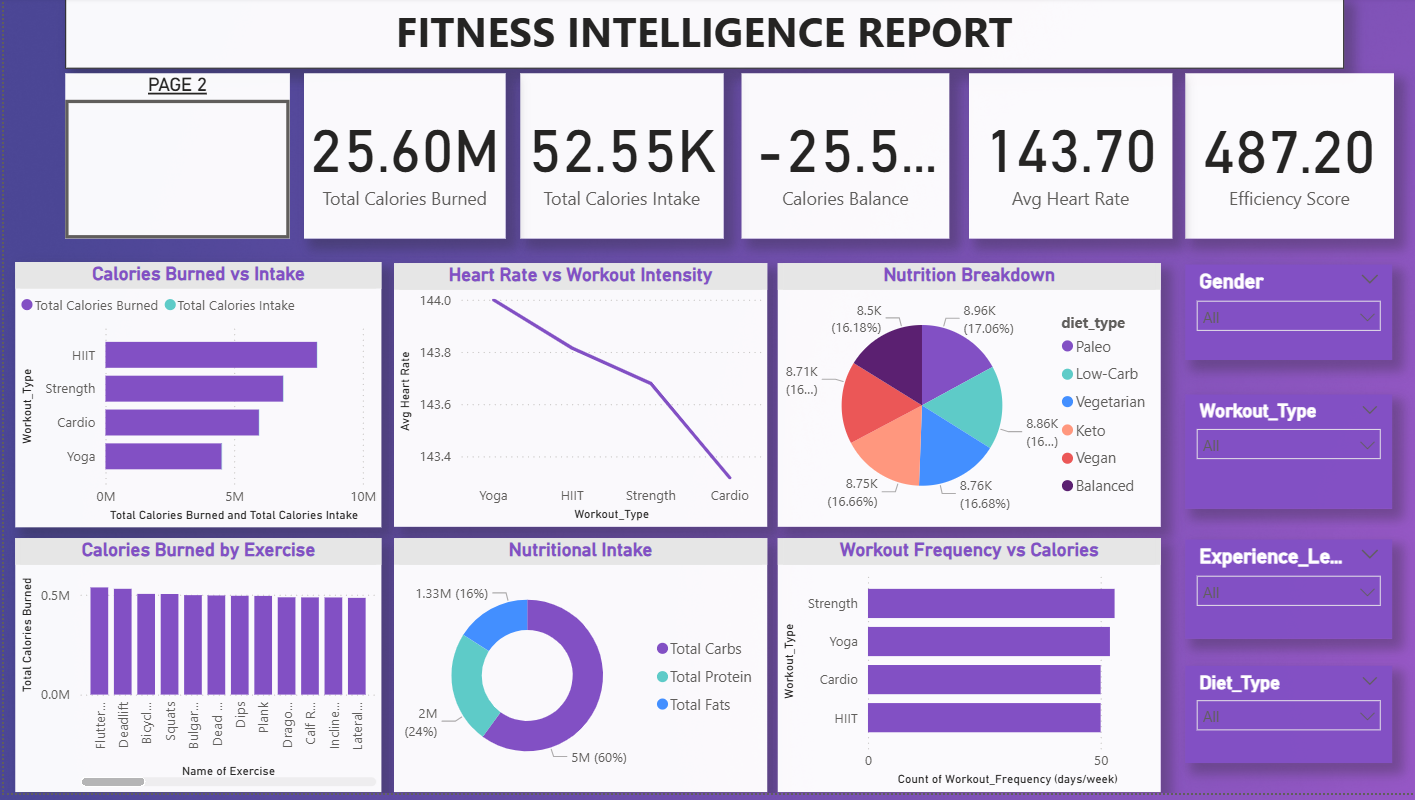

This screenshot's page, from the dashboard's own definition file:
{"tool":"powerbi","page":{"name":"Fitness Intelligence","canvas":[1280,720],"ordinal":0},"visuals":[{"type":"textbox","box":[55.3,0,1156.5,64.7],"z":0},{"type":"card","fields":{"Values":["Final_data.Calories Balance"]},"box":[667,69,188.3,149.5],"z":1000},{"type":"card","fields":{"Values":["Final_data.Efficiency Score"]},"box":[1068.5,69.4,188.8,149.6],"z":2000},{"type":"card","fields":{"Values":["Final_data.Avg Heart Rate"]},"box":[872.6,69,184,149.5],"z":4000},{"type":"card","fields":{"Values":["Final_data.Total Calories Intake"]},"box":[467.2,69,184,149.5],"z":5000},{"type":"card","fields":{"Values":["Final_data.Total Calories Burned"]},"box":[271.7,69,182.6,149.5],"z":6000},{"type":"barChart","title":"Calories Burned vs Intake","fields":{"Category":["Final_data.Workout_Type"],"Y":["Final_data.Total Calories Burned","Final_data.Total Calories Intake"]},"box":[10.4,239.8,331.5,239.8],"z":7000},{"type":"columnChart","title":"Calories Burned by Exercise","fields":{"Category":["Final_data.Name of Exercise"],"Y":["Final_data.Total Calories Burned"]},"box":[10.4,489.9,331.5,229.4],"z":8000},{"type":"lineChart","title":"Heart Rate vs Workout Intensity","fields":{"Category":["Final_data.Workout_Type"],"Y":["Final_data.Avg Heart Rate"]},"box":[352.3,241.3,337.5,238.3],"z":9000},{"type":"donutChart","title":"Nutritional Intake","fields":{"Y":["Final_data.Total Carbs","Final_data.Total Protein","Final_data.Total Fats"]},"box":[352.3,489.9,337.5,229.4],"z":10000},{"type":"pieChart","title":"Nutrition Breakdown","fields":{"Category":["Final_data.diet_type"],"Y":["Final_data.Total Calories Intake"]},"box":[700.1,241.3,346.3,238.3],"z":11000},{"type":"barChart","title":"Workout Frequency vs Calories","fields":{"Y":["Count(Final_data.Workout_Frequency (days/week))"],"Category":["Final_data.Workout_Type"]},"box":[700.1,489.9,346.3,229.4],"z":12000},{"type":"slicer","fields":{"Values":["Final_data.Gender"]},"box":[1068.5,241.4,187.1,86.1],"z":13000},{"type":"slicer","title":"Workout_Type","fields":{"Values":["Final_data.Workout_Type"]},"box":[1068.5,359.3,187.1,102.9],"z":14000},{"type":"slicer","fields":{"Values":["Final_data.Experience_Level"]},"box":[1068.5,490.3,187.1,89.8],"z":15000},{"type":"slicer","title":"Diet_type","fields":{"Values":["Final_data.diet_type"]},"box":[1068.5,604.4,187.1,88],"z":16000},{"type":"actionButton","title":"PAGE 2","box":[55,68.8,202.9,149.6],"z":16001}]}

Visuals, with their boxes in screenshot pixels (x1, y1, x2, y2), scaled from the page's 1280x720 canvas onto the 1415x800 screenshot:
textbox: rect(61, 0, 1340, 72)
card - Final_data.Calories Balance: rect(737, 77, 946, 243)
card - Final_data.Efficiency Score: rect(1181, 77, 1390, 243)
card - Final_data.Avg Heart Rate: rect(965, 77, 1168, 243)
card - Final_data.Total Calories Intake: rect(516, 77, 720, 243)
card - Final_data.Total Calories Burned: rect(300, 77, 502, 243)
"Calories Burned vs Intake" barChart: rect(11, 266, 378, 533)
"Calories Burned by Exercise" columnChart: rect(11, 544, 378, 799)
"Heart Rate vs Workout Intensity" lineChart: rect(389, 268, 763, 533)
"Nutritional Intake" donutChart: rect(389, 544, 763, 799)
"Nutrition Breakdown" pieChart: rect(774, 268, 1157, 533)
"Workout Frequency vs Calories" barChart: rect(774, 544, 1157, 799)
slicer - Final_data.Gender: rect(1181, 268, 1388, 364)
"Workout_Type" slicer: rect(1181, 399, 1388, 514)
slicer - Final_data.Experience_Level: rect(1181, 545, 1388, 645)
"Diet_type" slicer: rect(1181, 672, 1388, 769)
"PAGE 2" actionButton: rect(61, 76, 285, 243)
